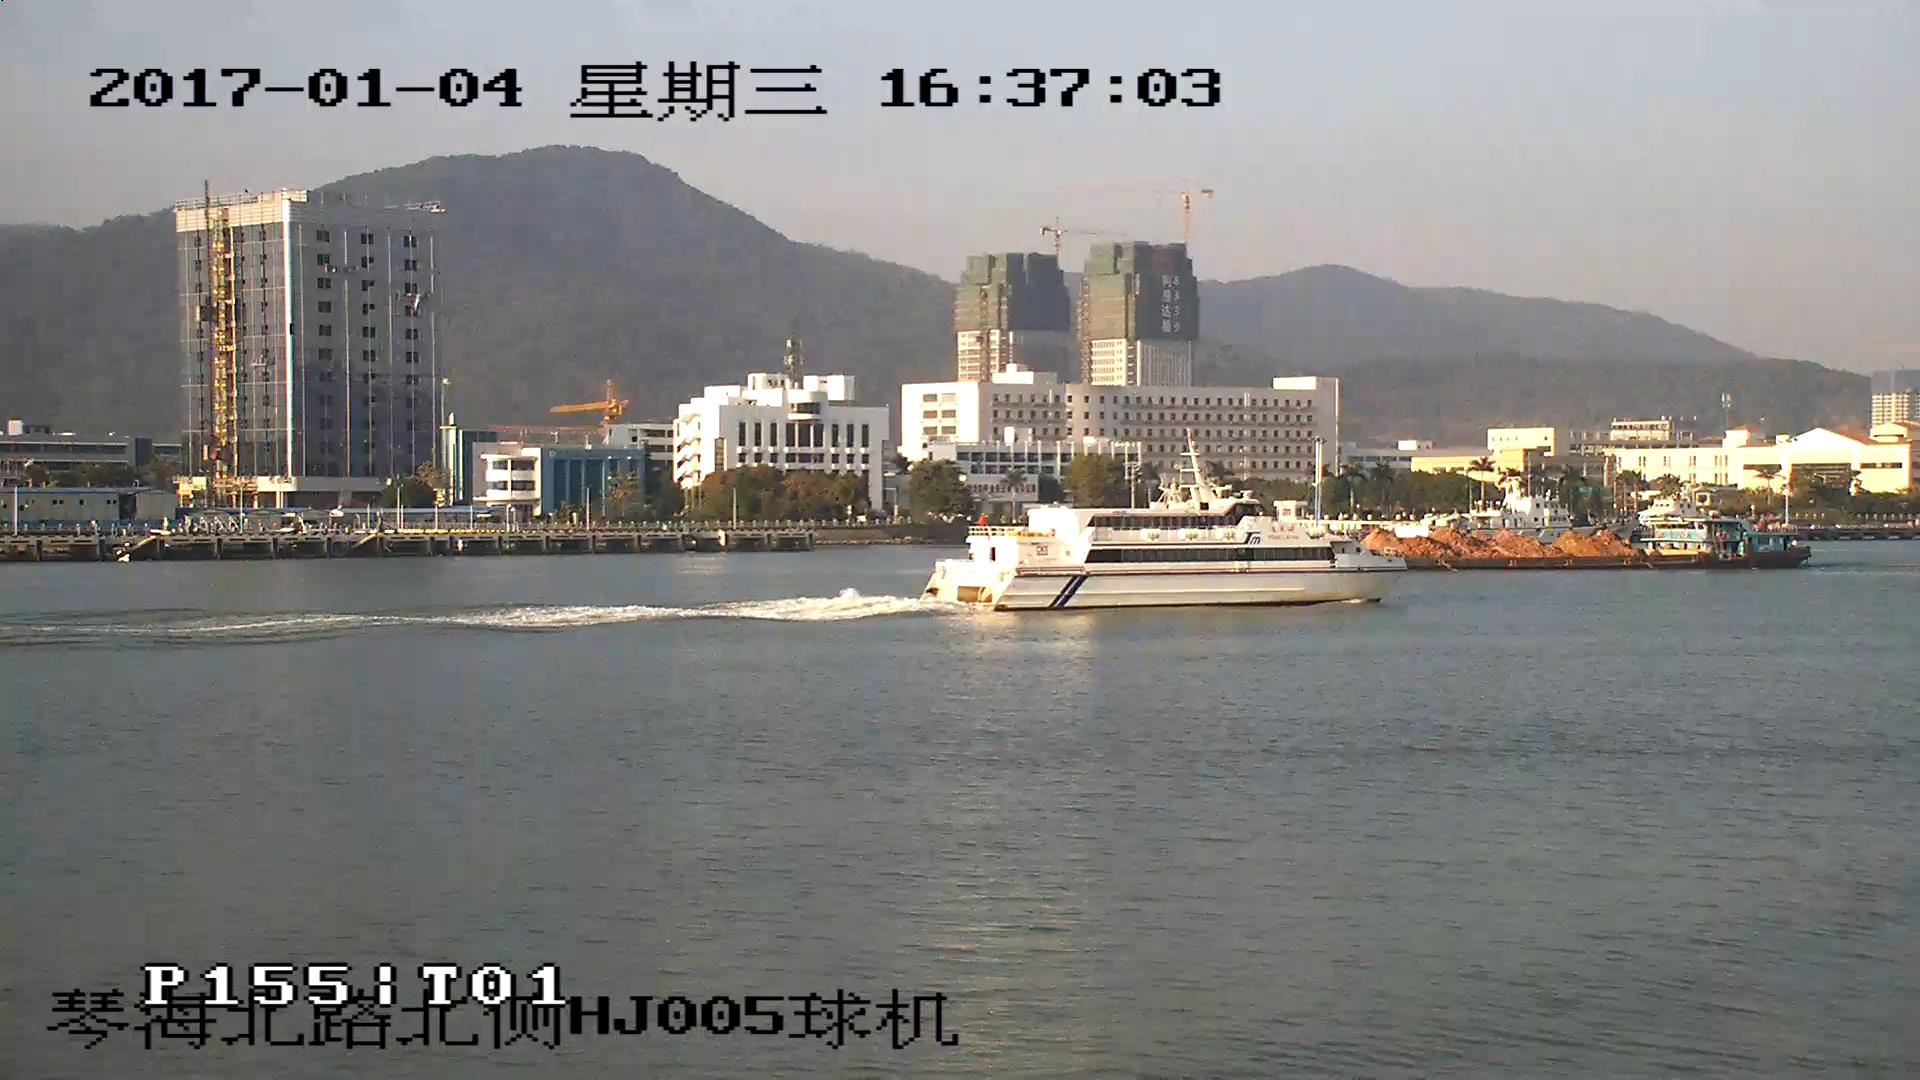ore carrier: (1374, 522, 1808, 572)
passenger ship: (924, 448, 1404, 608)
